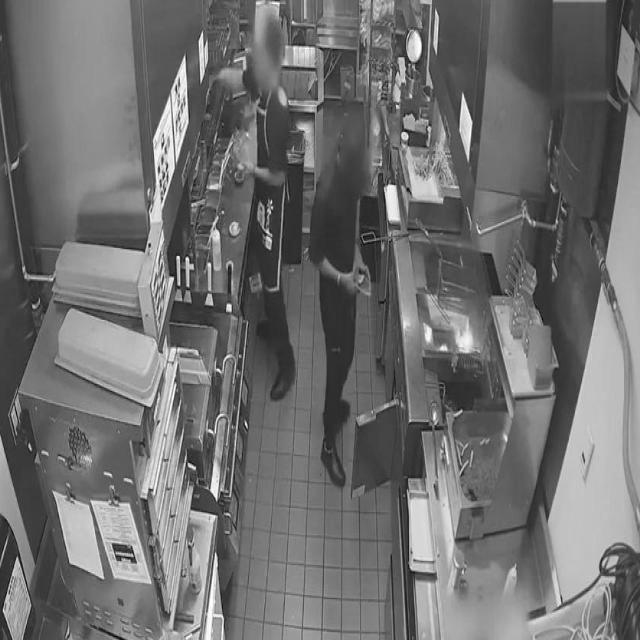smoke: (436, 314, 480, 356)
